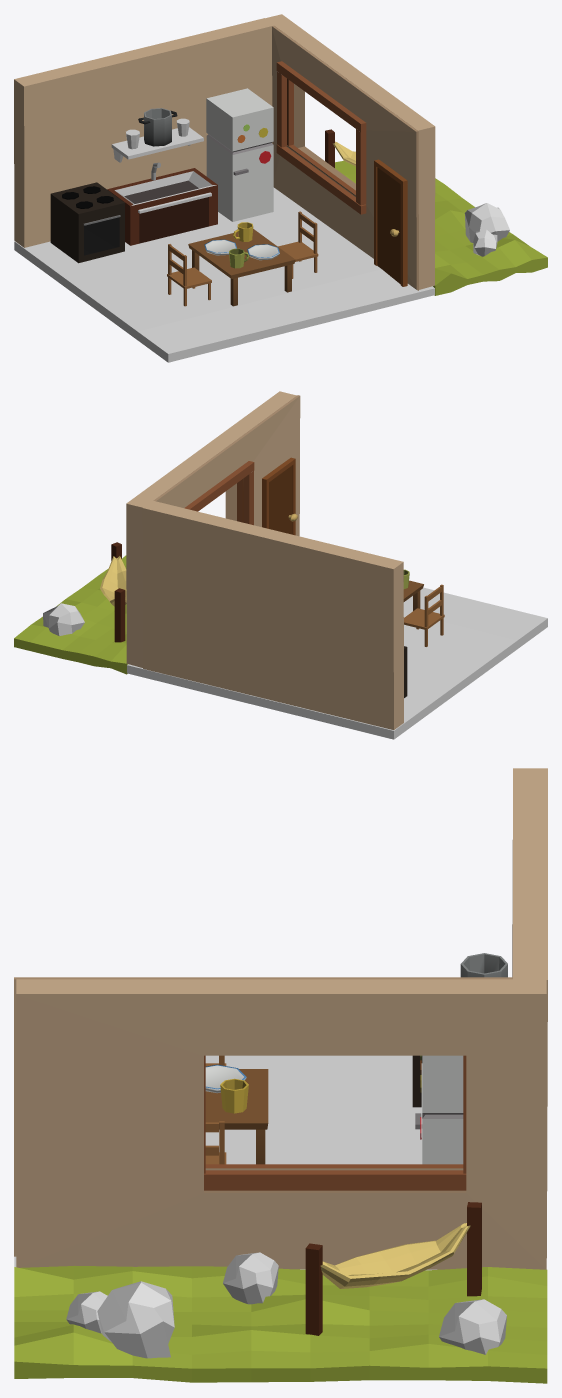
File: CozinhaBrumas.fbx
3 renders of one model, top to bottom at view 1: azimuth 30°, elevation 25°; view 2: azimuth 150°, elevation 25°; view 3: azimuth 270°, elevation 25°, orthographic. The views are drawn at different scales.
Parts seen in each view (by area): view 1: Paredes, Paredes.001, Geladeira, Pia, Fogao, Porta, Mesa, Arbustos, Prateleira, CadeiraDaEsquerda, Panela, CadeiraDaDireita (+2 smaller); view 2: Paredes, Paredes.001, Porta, Rede, CadeiraDaEsquerda, Arbustos; view 3: Paredes, Paredes.001, Arbustos, Rede, Geladeira, Mesa, Panela, XicaraAmarela, PratoAzuis.
Boxes of the visible parts, x1,y1,x2,y2 form: Paredes: (14,14,547,295); Paredes.001: (14,187,434,362); Geladeira: (206,88,273,221); Pia: (107,162,217,245); Fogao: (50,182,124,263); Porta: (374,159,407,286); Mesa: (188,229,295,306); Arbustos: (464,203,509,256); Prateleira: (111,127,203,162); CadeiraDaEsquerda: (167,244,211,306); Panela: (138,108,177,146); CadeiraDaDireita: (278,211,318,278); Paredes: (14,391,403,729); Paredes.001: (127,587,547,739); Porta: (262,457,297,535); Rede: (100,542,126,642); CadeiraDaEsquerda: (404,584,444,646); Arbustos: (43,603,84,636); Paredes: (14,768,547,1383); Paredes.001: (14,1055,436,1270); Arbustos: (66,1252,506,1358); Rede: (305,1202,481,1335); Geladeira: (415,1055,463,1164); Mesa: (205,1069,268,1164); Panela: (460,953,507,977); XicaraAmarela: (220,1078,248,1113); PratoAzuis: (205,1064,246,1093).
Size of the model in its own units: 490 by 210 by 345.
